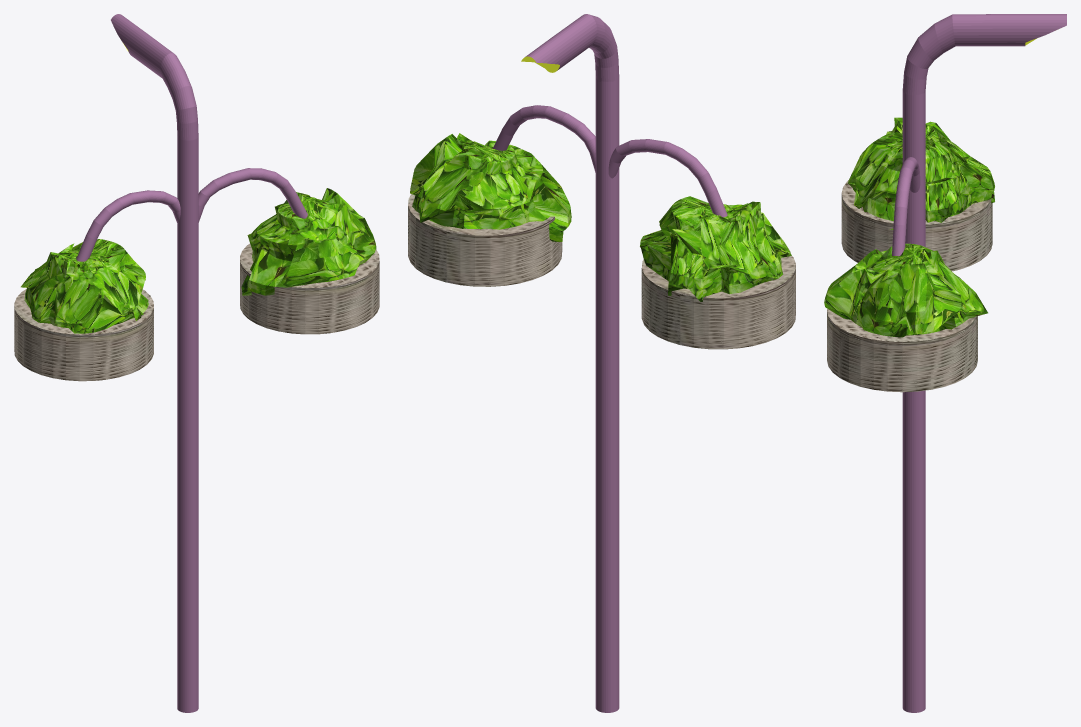
The model's file is spotLight.glb.
3 views of the same model, side by side, from view 1: azimuth 30°, elevation 25°; view 2: azimuth 150°, elevation 25°; view 3: azimuth 270°, elevation 25° (orthographic). The views are drawn at different scales.
Visible parts, largest first — view 1: Cylinder, Sphere.001, Sphere, Cylinder.001, Cylinder.002; view 2: Cylinder, Sphere.001, Sphere, Cylinder.001, Cylinder.002; view 3: Cylinder, Sphere.001, Cylinder.002, Sphere, Cylinder.001.
Part boxes in pixels (x1=…): Cylinder: x1=76, y1=14, x2=307, y2=712; Sphere.001: x1=241, y1=188, x2=376, y2=295; Sphere: x1=21, y1=239, x2=148, y2=333; Cylinder.001: x1=14, y1=289, x2=153, y2=381; Cylinder.002: x1=240, y1=243, x2=379, y2=334; Cylinder: x1=492, y1=14, x2=727, y2=712; Sphere.001: x1=410, y1=133, x2=571, y2=241; Sphere: x1=640, y1=196, x2=791, y2=301; Cylinder.001: x1=641, y1=256, x2=795, y2=349; Cylinder.002: x1=408, y1=194, x2=562, y2=286; Cylinder: x1=892, y1=14, x2=1066, y2=712; Sphere.001: x1=824, y1=243, x2=987, y2=337; Cylinder.002: x1=827, y1=309, x2=977, y2=392; Sphere: x1=847, y1=117, x2=994, y2=229; Cylinder.001: x1=841, y1=180, x2=992, y2=271.
Bounding box in the file's own units: 2.63 × 4.75 × 1.51.
Materials: 5 (3 with a texture image).
